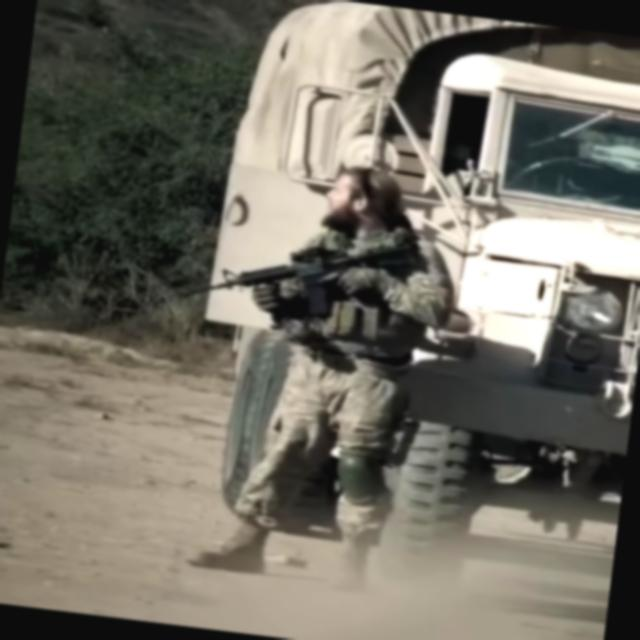m16: (122, 160, 450, 367)
